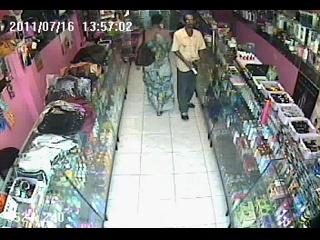Normal: (170, 13, 207, 121), (136, 14, 174, 116), (135, 40, 156, 66)
